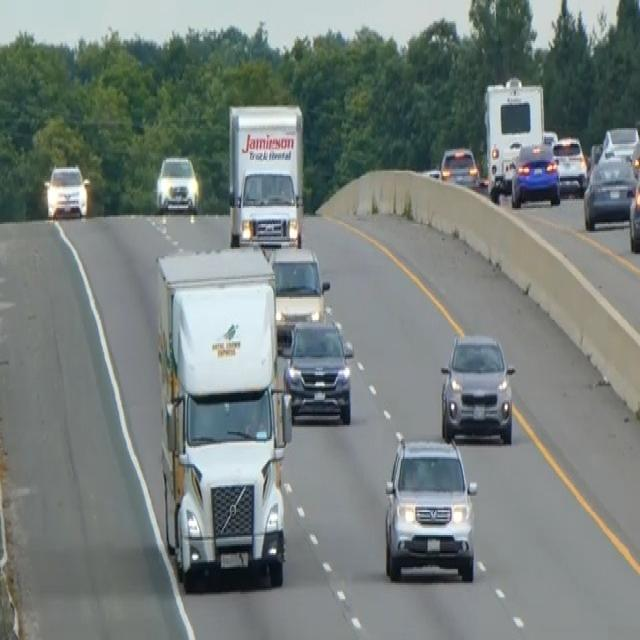car: (382, 429, 478, 583), (439, 329, 516, 444), (283, 315, 354, 425), (268, 242, 330, 348), (38, 146, 97, 233), (582, 151, 636, 229), (510, 139, 561, 208), (155, 153, 199, 213), (45, 162, 88, 218), (551, 133, 587, 194), (439, 144, 479, 188), (600, 122, 639, 162), (628, 170, 639, 252), (540, 128, 558, 149)
lorry: (154, 244, 293, 590)
